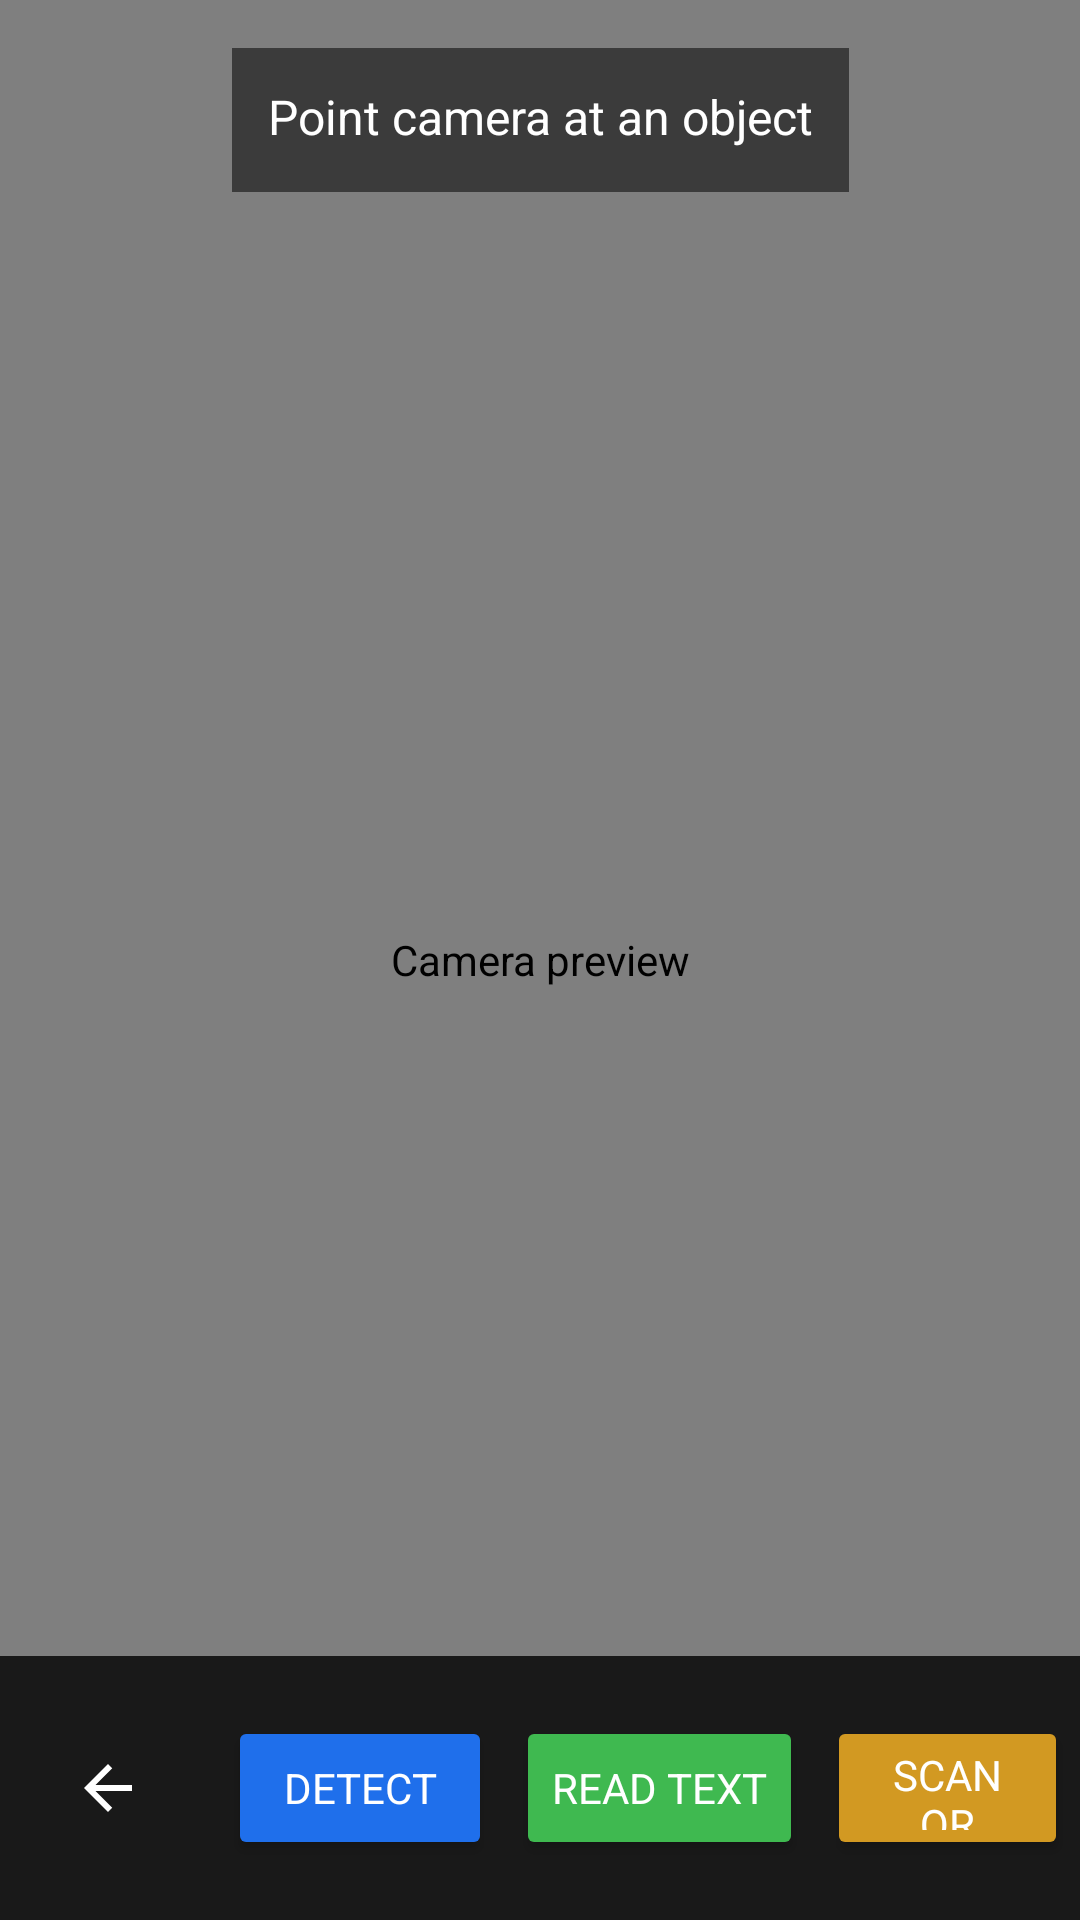

Icons on this 1080px x 1920px Android screen, each with its box as BBox(x1, y1, x2, y2):
Go back: BBox(84, 1764, 132, 1812)
